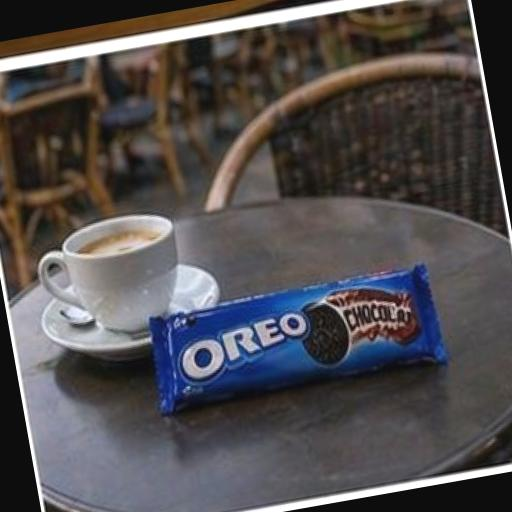oreo: (106, 218, 475, 462)
